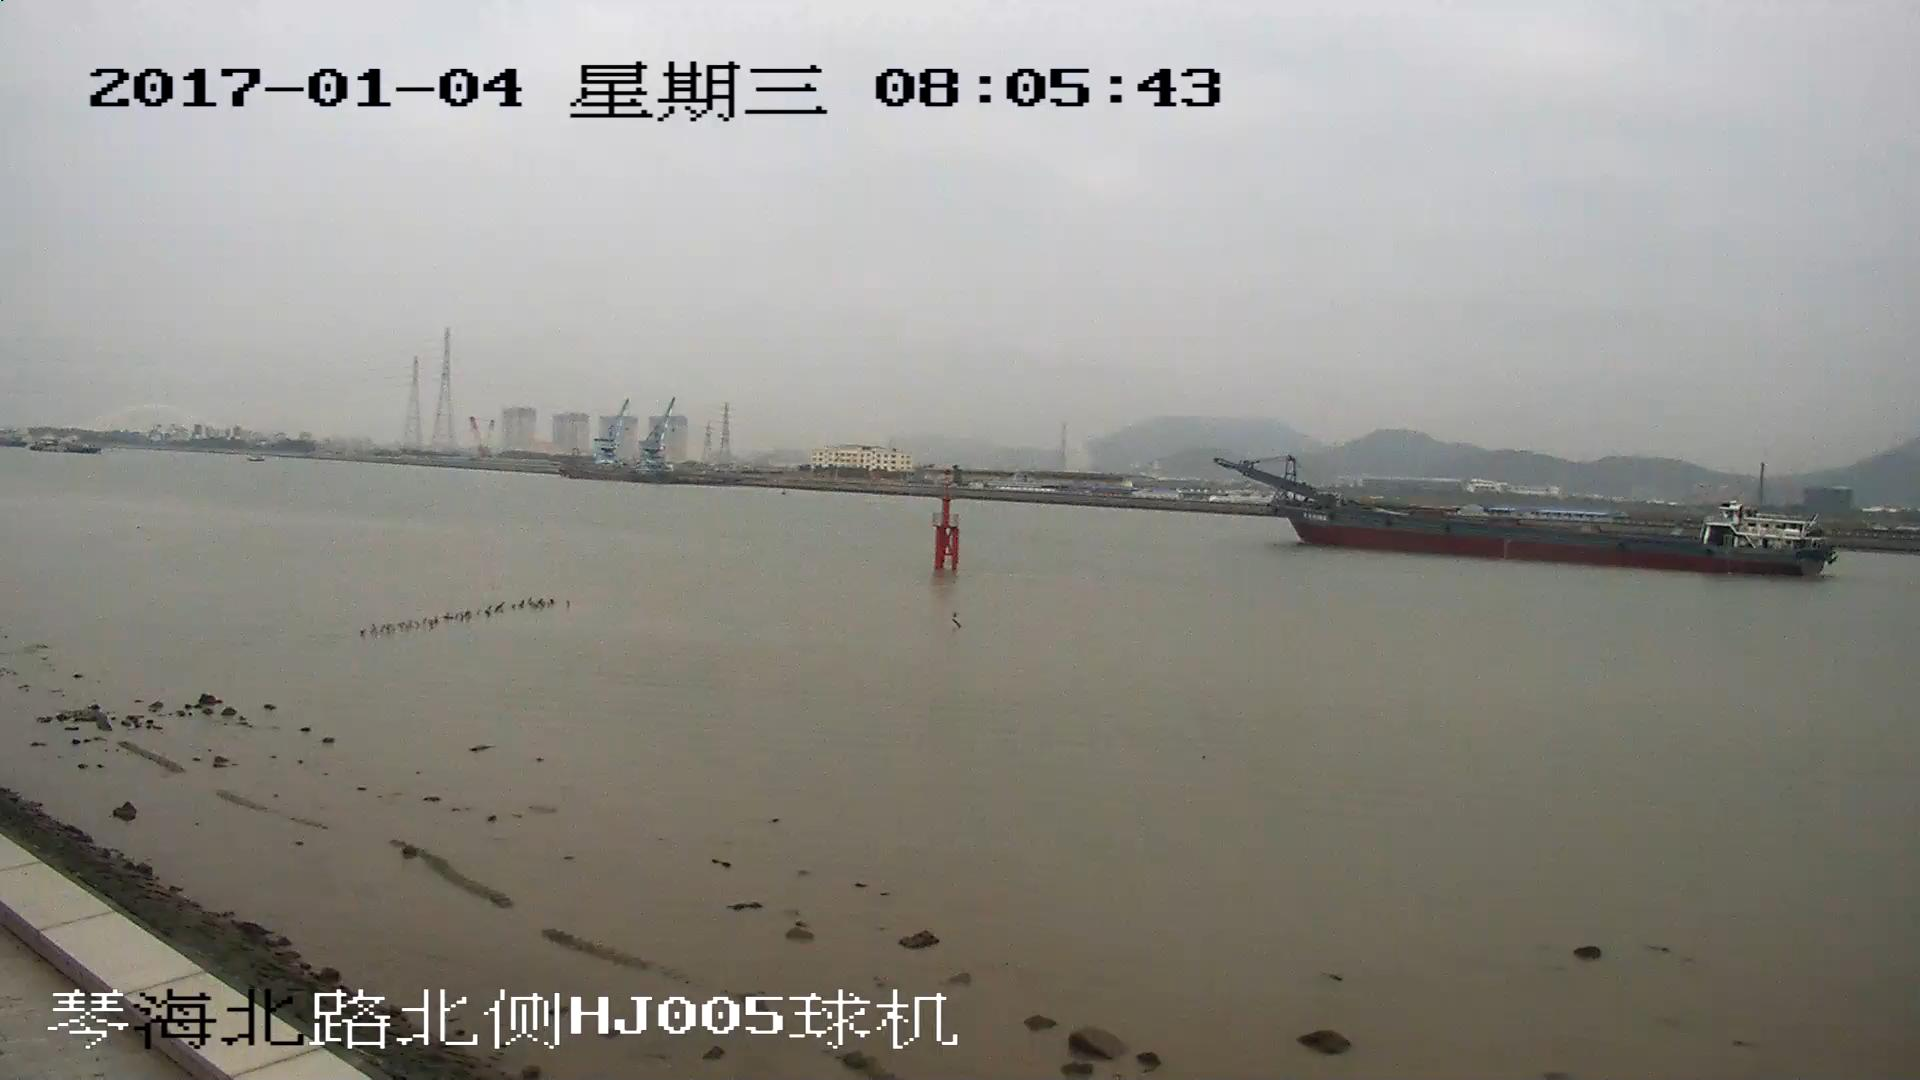bulk cargo carrier: (1212, 458, 1832, 578)
